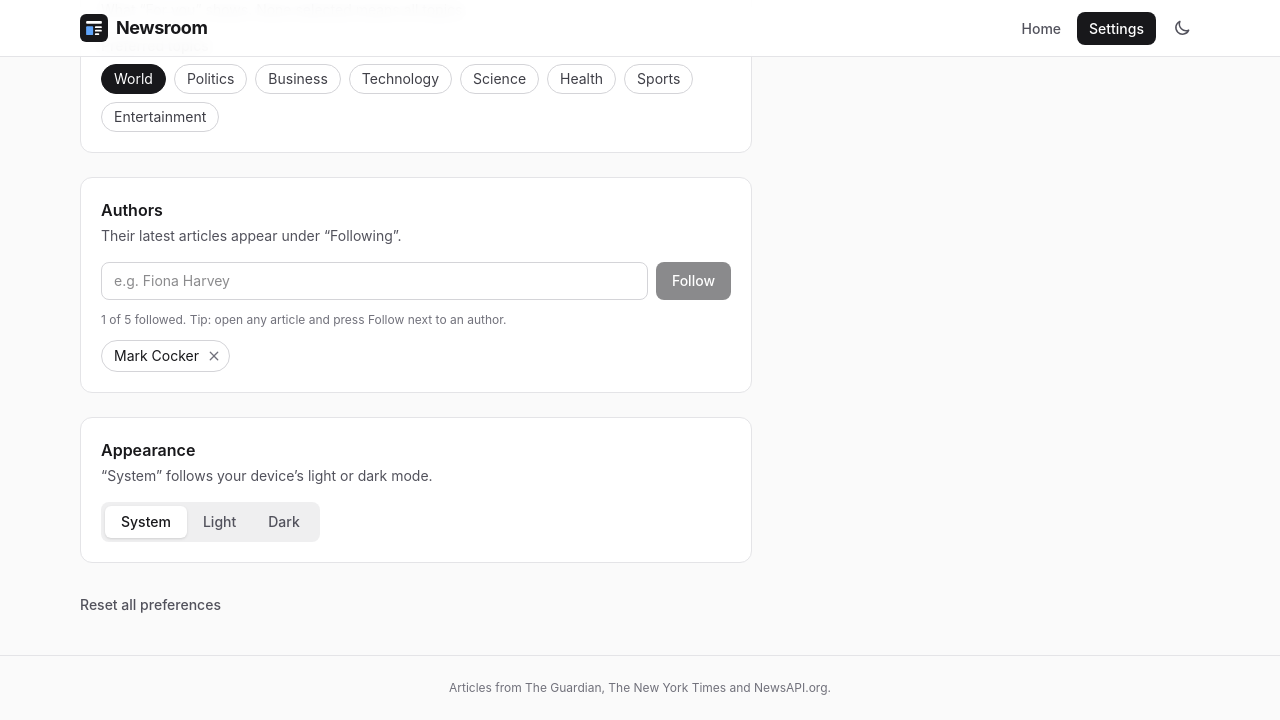
Test case: SettingsPage › resets everything
(page scrolled)
Click the button "Reset all preferences": (150, 605) [64,587,237,623]
(page scrolled)
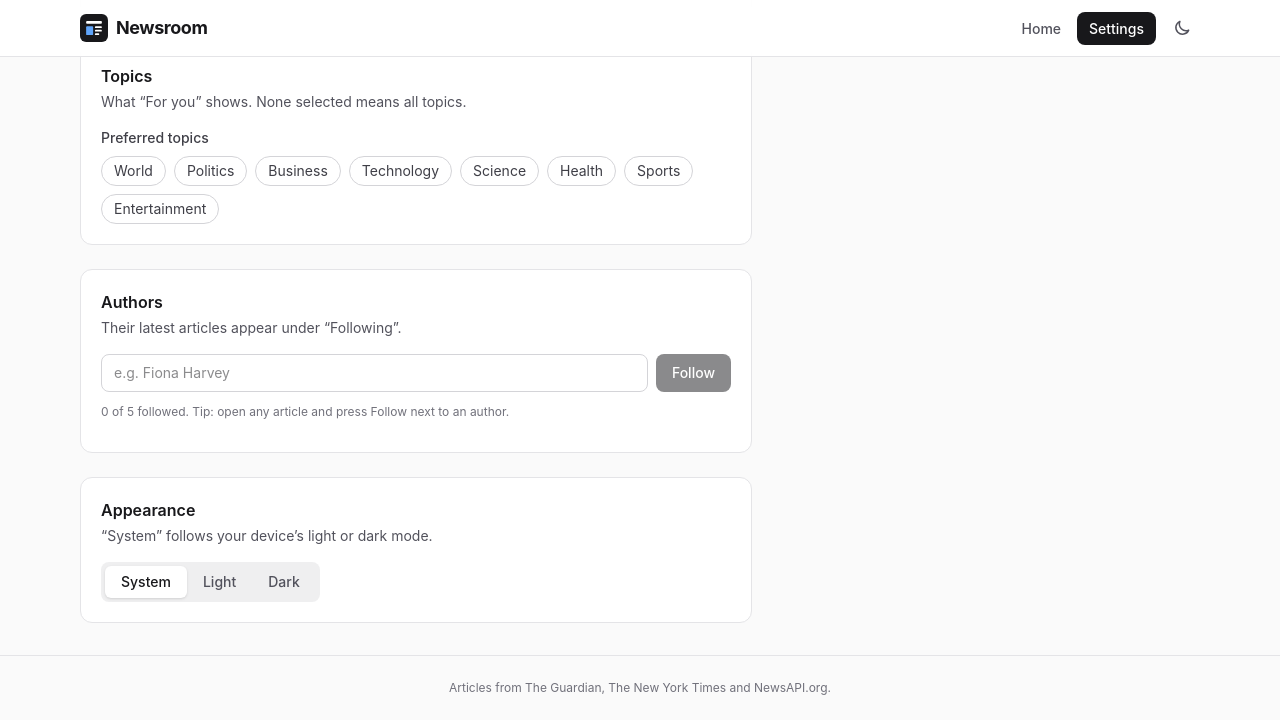
Expected: the button "Reset all preferences" is gone
